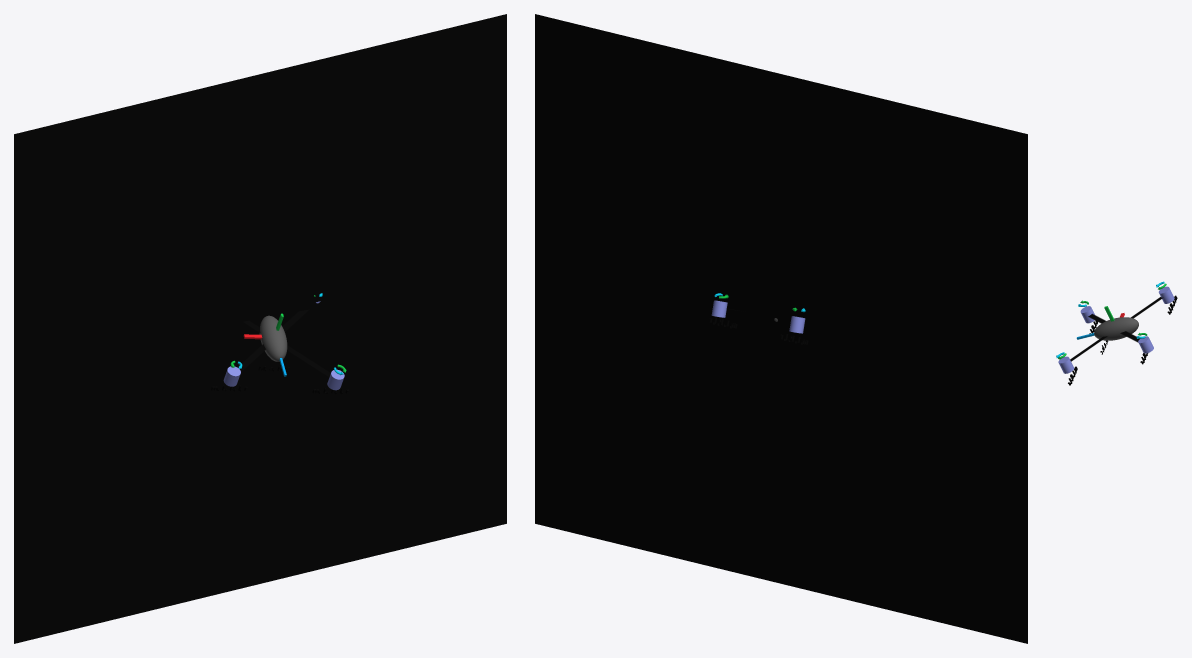
File: diplomaQuadCopter3DModel.glb
3 views of the same model, side by side, from view 1: azimuth 30°, elevation 25°; view 2: azimuth 150°, elevation 25°; view 3: azimuth 270°, elevation 25° (orthographic). The views are drawn at different scales.
Parts seen in each view (by area): view 1: mesh_id1, mesh_id74, mesh_id68; view 2: mesh_id1; view 3: mesh_id74, mesh_id68, mesh_id113.
Part boxes in pixels (bbox=[...]): mesh_id1: bbox=[14, 14, 506, 643]; mesh_id74: bbox=[259, 315, 287, 361]; mesh_id68: bbox=[237, 309, 330, 377]; mesh_id1: bbox=[535, 14, 1027, 643]; mesh_id74: bbox=[1094, 317, 1138, 340]; mesh_id68: bbox=[1070, 297, 1163, 361]; mesh_id113: bbox=[1158, 286, 1174, 303].
Bounding box in the file's own units: 4.3 × 4.25 × 1.09.
Materials: 13 (8 with a texture image).
